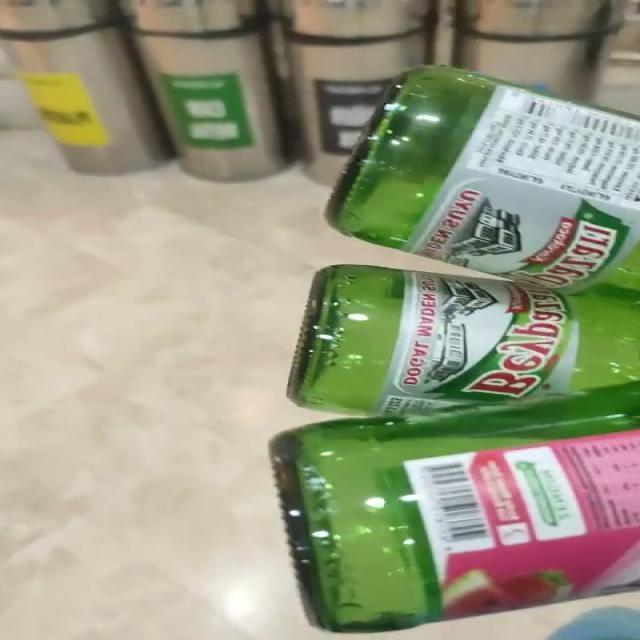Glass: (269, 66, 639, 633)
